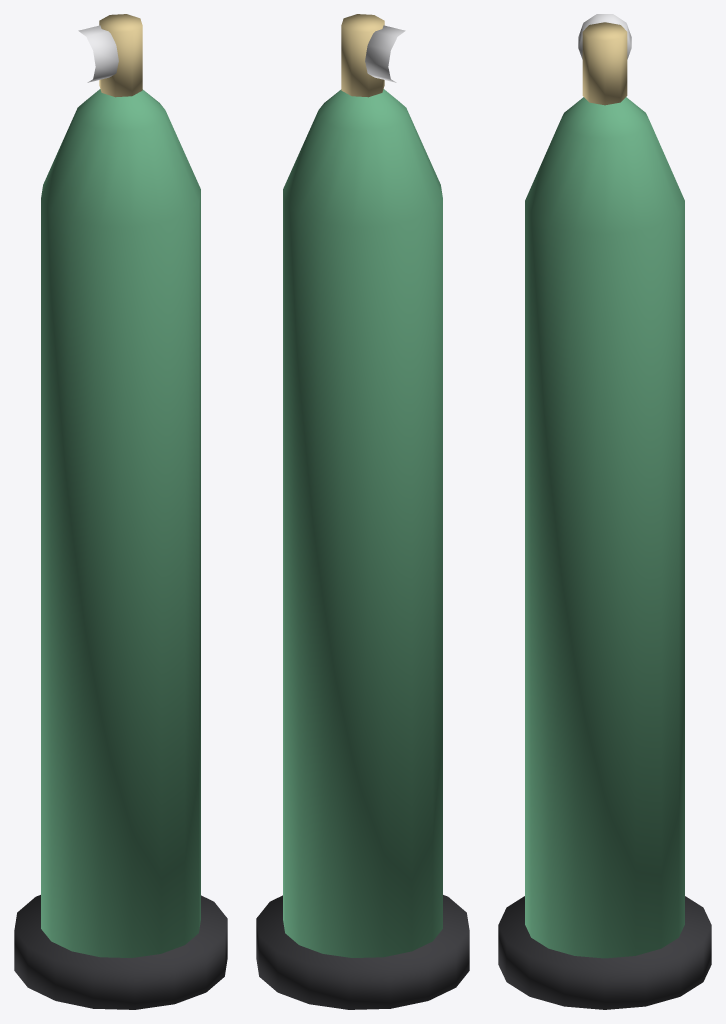
File: oxygen_tank.glb
The picture shows the model from 3 angles, left to right: view 1: azimuth 30°, elevation 25°; view 2: azimuth 150°, elevation 25°; view 3: azimuth 270°, elevation 25°; orthographic projection.
Visible parts, largest first — view 1: oxygen_tank; view 2: oxygen_tank; view 3: oxygen_tank.
Part boxes in pixels (x1=…): oxygen_tank: x1=14, y1=14, x2=227, y2=1009; oxygen_tank: x1=256, y1=14, x2=469, y2=1009; oxygen_tank: x1=498, y1=14, x2=711, y2=1009.
Size of the model in its own units: 0.24 by 1.16 by 0.24.
